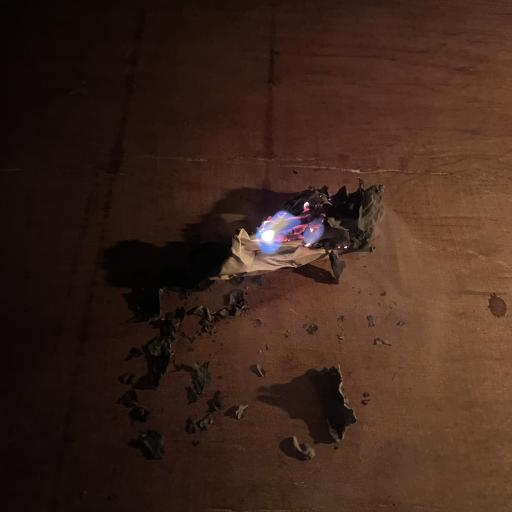fire: (235, 190, 335, 276)
